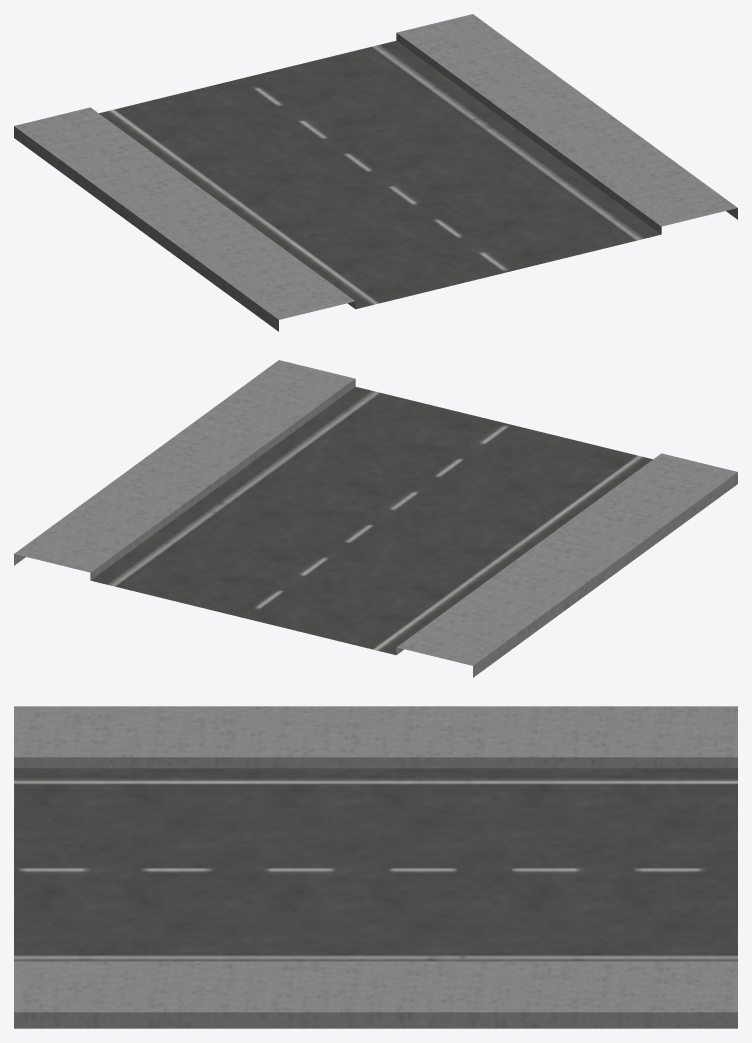
The model's file is Road_Straight.glb.
3 views of the same model, one above another, from view 1: azimuth 30°, elevation 25°; view 2: azimuth 150°, elevation 25°; view 3: azimuth 270°, elevation 25° (orthographic). The views are drawn at different scales.
Parts seen in each view (by area): view 1: Object_12; view 2: Object_12; view 3: Object_12.
Boxes of the visible parts, bbox=[...] form: Object_12: bbox=[14, 14, 737, 331]; Object_12: bbox=[14, 360, 737, 677]; Object_12: bbox=[14, 706, 737, 1028].
Size of the model in its own units: 6 by 0.1498 by 6.
1 material, 1 textured.
